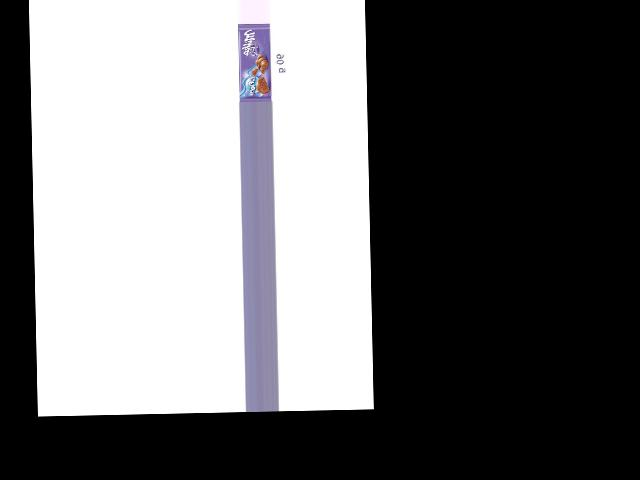chocolate: (237, 25, 271, 102)
